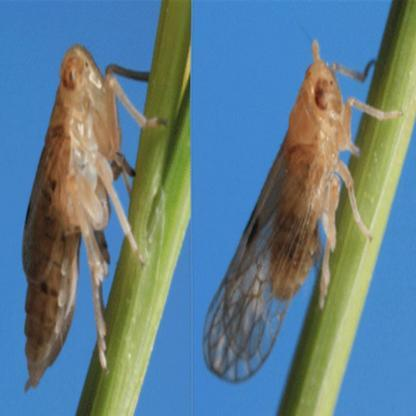brown-planthopper: (203, 42, 360, 386), (21, 45, 134, 392)
